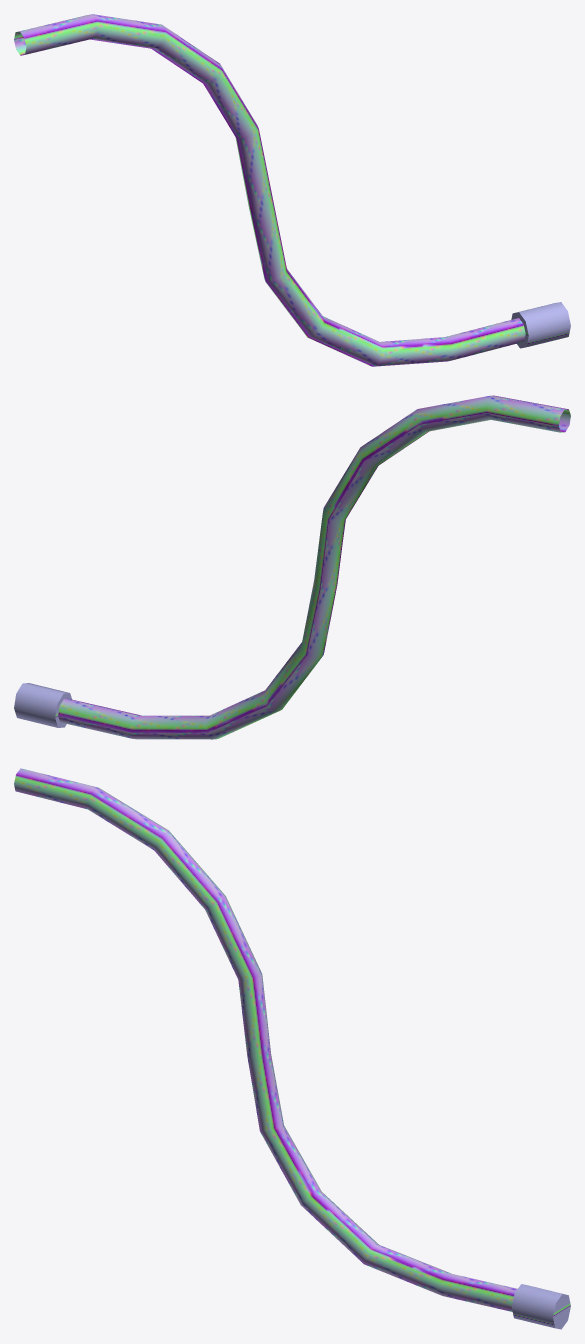
Rendered from LitCableA3.fbx.
The picture shows the model from 3 angles, top to bottom: view 1: azimuth 30°, elevation 25°; view 2: azimuth 150°, elevation 25°; view 3: azimuth 330°, elevation 25°; orthographic projection. The views are drawn at different scales.
Parts seen in each view (by area): view 1: LitCableA3; view 2: LitCableA3; view 3: LitCableA3.
Part boxes in pixels (box(x1,y1,x2,y2)): LitCableA3: box(14, 14, 570, 366); LitCableA3: box(14, 395, 570, 739); LitCableA3: box(14, 768, 570, 1329).
Size of the model in its own units: 74.4 by 57.66 by 5.14.
1 material, 1 textured.
